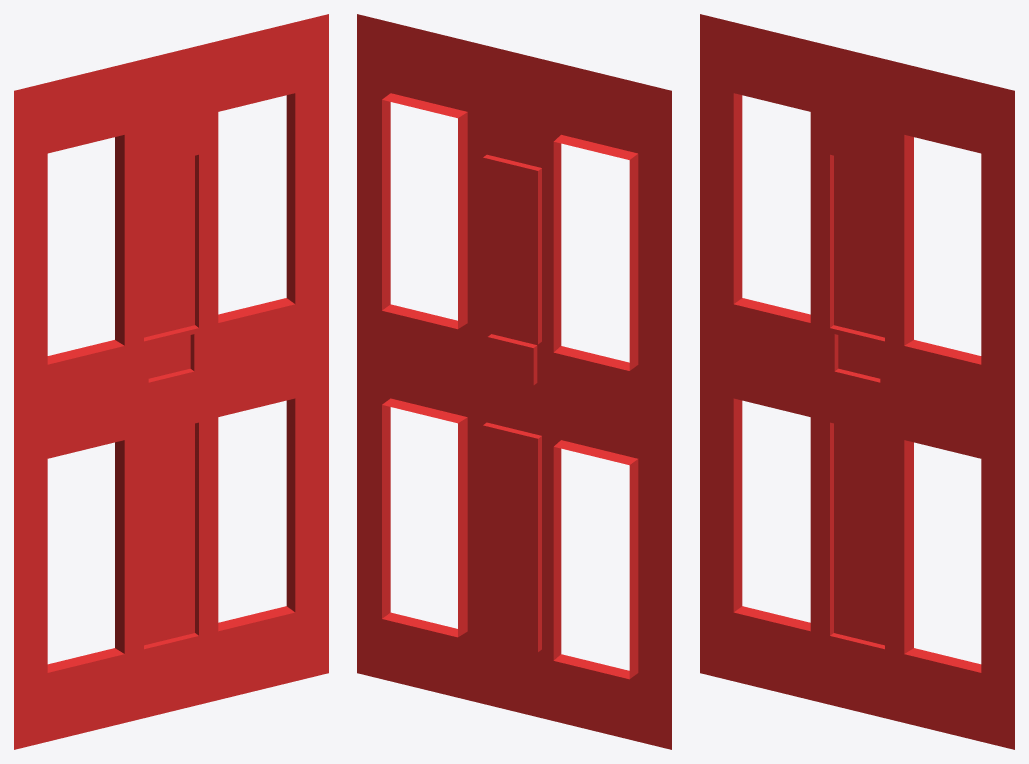
File: wall_A_body.fbx
The picture shows the model from 3 angles, left to right: view 1: azimuth 30°, elevation 25°; view 2: azimuth 150°, elevation 25°; view 3: azimuth 330°, elevation 25°; orthographic projection.
Parts seen in each view (by area): view 1: wall_A_body; view 2: wall_A_body; view 3: wall_A_body.
Part boxes in pixels (x1,y1,x2,y2): wall_A_body: [14, 14, 328, 749]; wall_A_body: [357, 14, 671, 749]; wall_A_body: [700, 14, 1014, 749].
Size of the model in its own units: 400 by 800 by 19.26.
